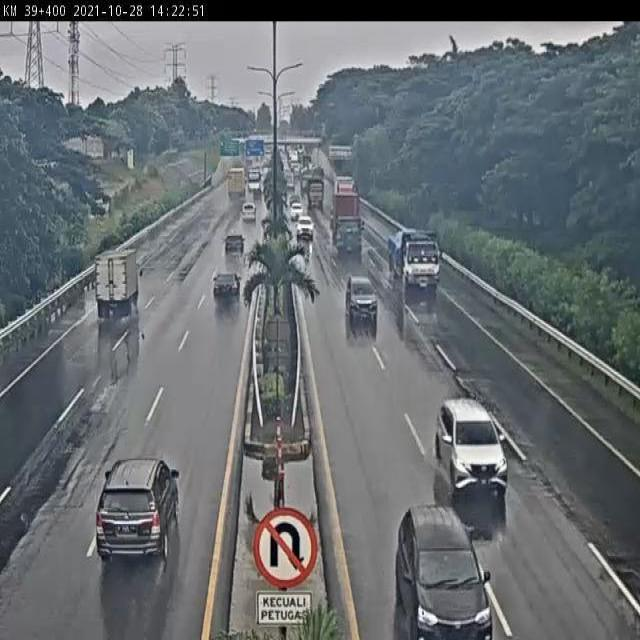car: (95, 456, 181, 563)
truck-l-: (387, 228, 445, 295)
truck-m-: (94, 248, 143, 319)
truck-xl-: (333, 193, 366, 256)
